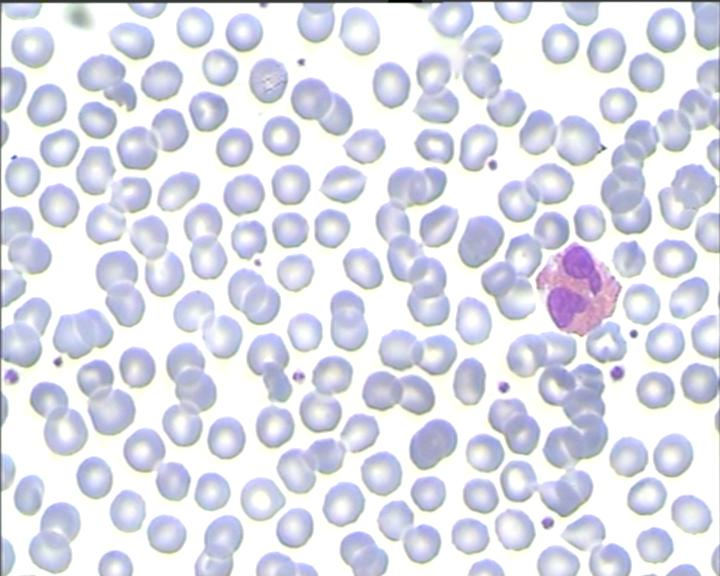eosi: (532, 237, 622, 337)
